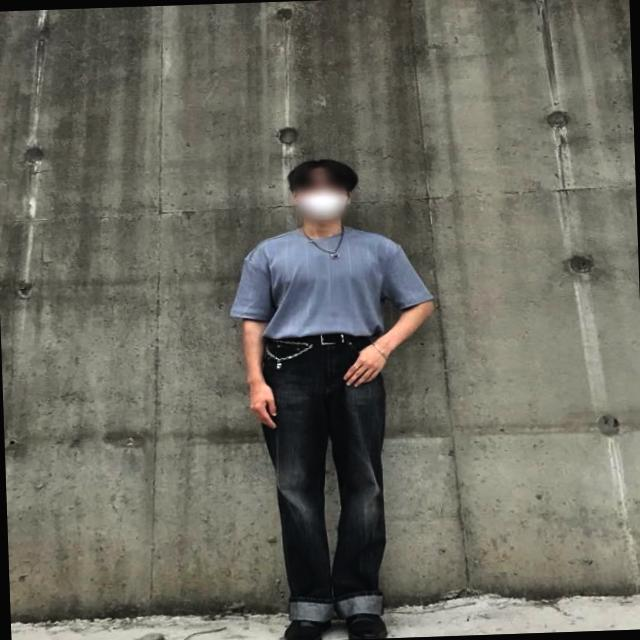denimpants: (256, 330, 390, 618)
shortsleeve: (232, 219, 440, 341)
